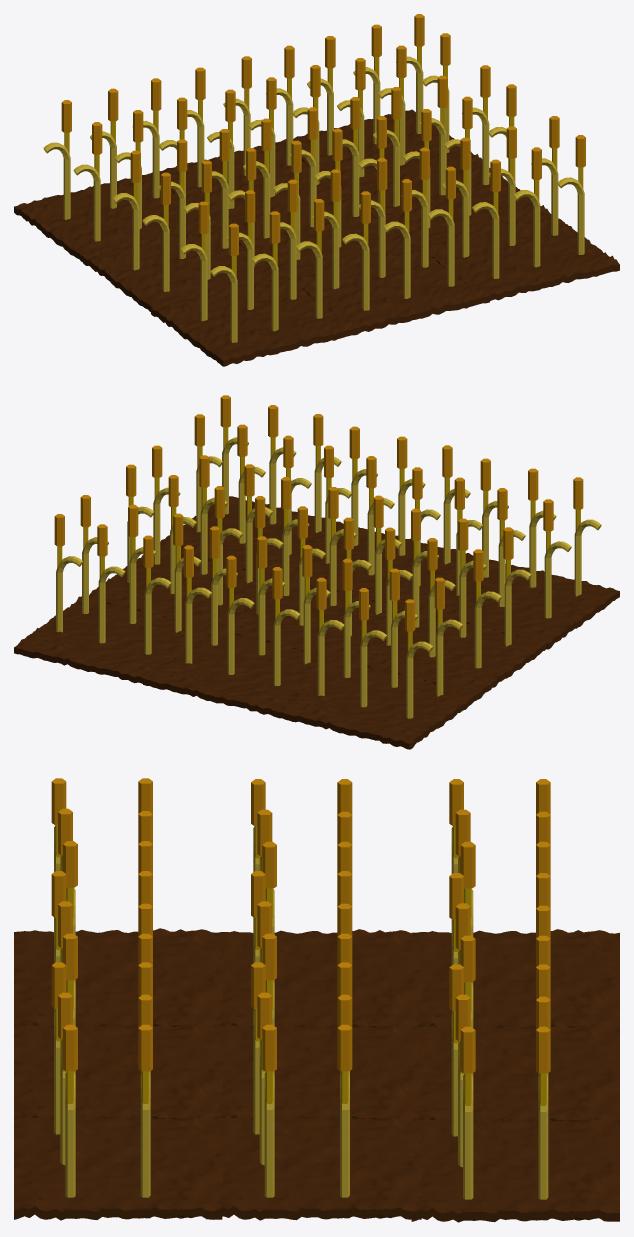
The model's file is Zboze_duze.FBX.
The picture shows the model from 3 angles, top to bottom: view 1: azimuth 30°, elevation 25°; view 2: azimuth 150°, elevation 25°; view 3: azimuth 270°, elevation 25°; orthographic projection. The views are drawn at different scales.
Parts seen in each view (by area): view 1: Box006, Box008, Box005, Box002, Box003, Box007, Box004, Box001, Box009, Gengon106, Gengon156, Gengon088 (+37 smaller); view 2: Box002, Box001, Box009, Box006, Box003, Box004, Box007, Box005, Box008, Gengon116, Gengon019, Gengon091 (+38 smaller); view 3: Box008, Box009, Box007, Box005, Box006, Box001, Box002, Box004, Box003, Gengon119, Gengon156, Gengon150 (+20 smaller).
Boxes of the visible parts, box(x1,y1,x2,y2) form: Box006: box(151, 276, 358, 366); Box008: box(418, 212, 619, 302); Box005: box(287, 244, 489, 334); Box002: box(14, 174, 219, 264); Box003: box(83, 225, 287, 311); Box007: box(349, 161, 549, 245); Box004: box(218, 193, 417, 277); Box001: box(148, 141, 351, 225); Box009: box(278, 109, 482, 194); Gengon106: box(295, 241, 322, 318); Gengon156: box(557, 177, 584, 254); Gengon088: box(427, 209, 454, 286); Box002: box(275, 660, 481, 749); Box001: box(143, 627, 343, 717); Box009: box(14, 596, 218, 683); Box006: box(419, 559, 619, 649); Box003: box(350, 610, 549, 699); Box004: box(218, 579, 404, 658); Box007: box(89, 547, 272, 627); Box005: box(289, 528, 473, 608); Box008: box(160, 496, 359, 576); Gengon116: box(98, 566, 125, 643); Gengon019: box(406, 641, 433, 718); Gengon091: box(544, 541, 571, 618); Box008: box(14, 1112, 222, 1220); Box009: box(411, 1114, 619, 1222); Box007: box(213, 1112, 421, 1220); Box005: box(14, 1021, 222, 1119); Box006: box(14, 928, 222, 1027); Box001: box(411, 1023, 619, 1121); Box002: box(411, 929, 619, 1028); Box004: box(213, 1021, 421, 1119); Box003: box(213, 929, 421, 1027); Gengon119: box(463, 1074, 473, 1199); Gengon156: box(65, 1072, 75, 1197); Gengon150: box(264, 1072, 274, 1197).
Bounding box in the file's own units: 64.68 × 19.3 × 59.01.
